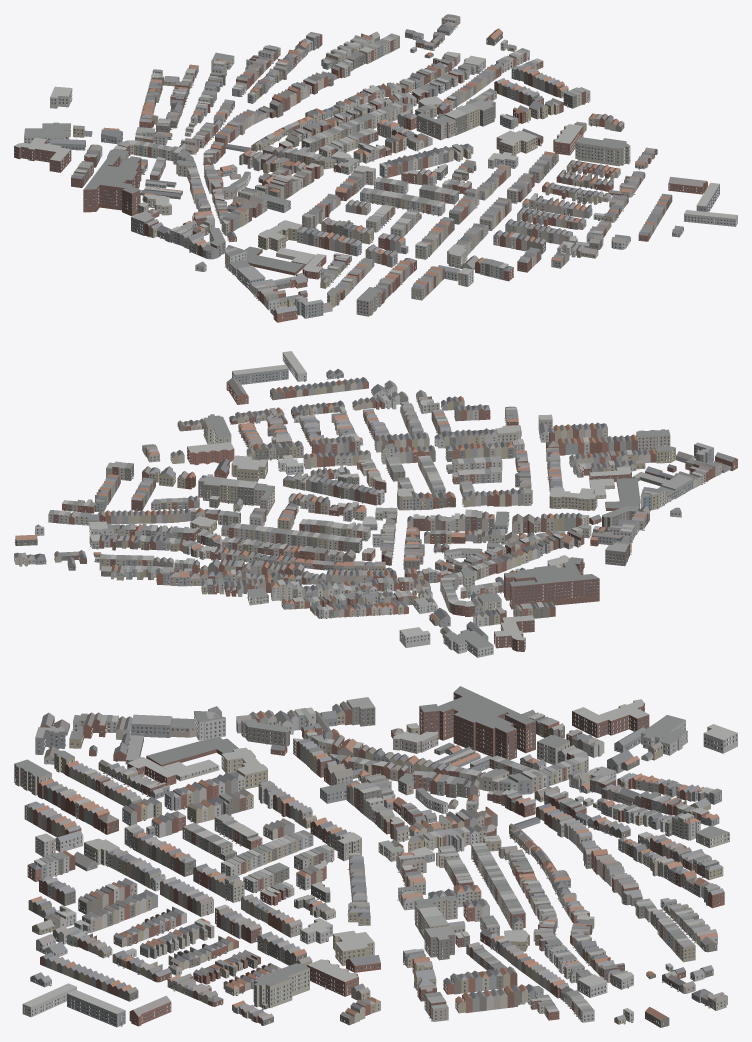
3 views of the same model, one above another, from view 1: azimuth 30°, elevation 25°; view 2: azimuth 150°, elevation 25°; view 3: azimuth 270°, elevation 25° (orthographic). The views are drawn at different scales.
Parts seen in each view (by area): view 1: way/109246703, way/562586634, way/690068656, way/95761199, way/1490958711, way/1160040827, way/642876777, way/156464875, way/618821995, way/400895431, way/487056553, way/564463031 (+1 smaller); view 2: way/109246703, way/690068656, way/95761199, way/156464875, way/400895431, way/618822001, way/1490958711, way/1160040827, way/562586634, way/487056553, way/190594116, way/642876777; view 3: way/109246703, way/690068656, way/562586634, way/1160040827, way/156464875, way/400895431, way/95761199, way/618822001, way/1490958711, way/269095197, way/642876778, way/102539866 (+16 smaller).
Boxes of the visible parts, x1=… form: way/109246703: x1=83, y1=154, x2=141, y2=216; way/562586634: x1=575, y1=137, x2=630, y2=166; way/690068656: x1=14, y1=137, x2=71, y2=172; way/95761199: x1=258, y1=220, x2=302, y2=251; way/1490958711: x1=496, y1=130, x2=537, y2=156; way/1160040827: x1=240, y1=246, x2=303, y2=275; way/642876777: x1=416, y1=113, x2=455, y2=140; way/156464875: x1=24, y1=122, x2=70, y2=144; way/618821995: x1=683, y1=210, x2=737, y2=226; way/400895431: x1=553, y1=124, x2=583, y2=155; way/487056553: x1=356, y1=287, x2=381, y2=316; way/564463031: x1=668, y1=176, x2=707, y2=194; way/109246703: x1=504, y1=557, x2=599, y2=609; way/690068656: x1=494, y1=615, x2=534, y2=651; way/95761199: x1=549, y1=487, x2=597, y2=510; way/156464875: x1=443, y1=629, x2=493, y2=657; way/400895431: x1=187, y1=442, x2=234, y2=465; way/618822001: x1=232, y1=364, x2=288, y2=384; way/1490958711: x1=231, y1=455, x2=267, y2=481; way/1160040827: x1=605, y1=478, x2=640, y2=510; way/562586634: x1=203, y1=414, x2=231, y2=444; way/487056553: x1=636, y1=429, x2=670, y2=450; way/190594116: x1=399, y1=627, x2=430, y2=647; way/642876777: x1=254, y1=483, x2=274, y2=515; way/109246703: x1=419, y1=686, x2=535, y2=759; way/690068656: x1=572, y1=699, x2=649, y2=737; way/562586634: x1=253, y1=963, x2=309, y2=1008; way/1160040827: x1=146, y1=736, x2=238, y2=766; way/156464875: x1=641, y1=715, x2=687, y2=755; way/400895431: x1=307, y1=959, x2=358, y2=996; way/95761199: x1=221, y1=747, x2=267, y2=789; way/618822001: x1=67, y1=989, x2=125, y2=1027; way/1490958711: x1=333, y1=930, x2=374, y2=965; way/269095197: x1=241, y1=719, x2=289, y2=746; way/642876778: x1=424, y1=926, x2=454, y2=960; way/102539866: x1=131, y1=714, x2=172, y2=737.
Bounding box in the file's own units: 529 × 36.17 × 527.
